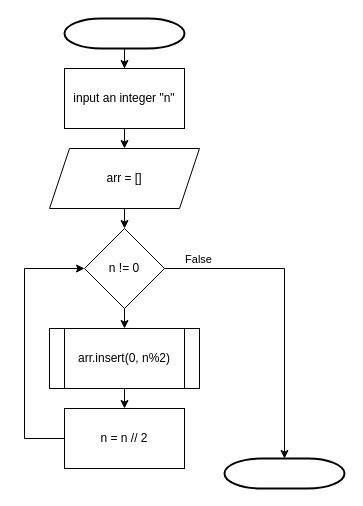
Some shapes in this 363 by 506 pixel diagram are drawn without their labels. The shapes that lost their labels are listed below. From the top down, each one's centre as x and y in pixels, then its label:
the point at 124,33: start
the point at 284,473: Stop
